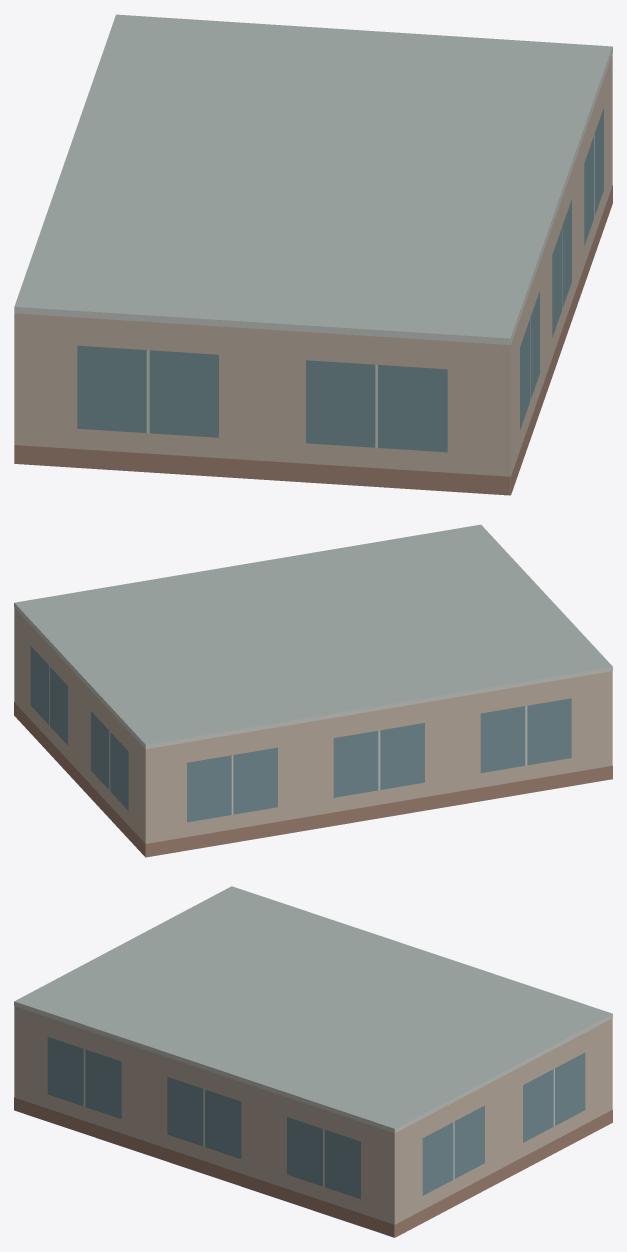
The model's file is survey-upis-32821896.glb.
3 renders of one model, top to bottom at view 1: azimuth 30°, elevation 25°; view 2: azimuth 150°, elevation 25°; view 3: azimuth 270°, elevation 25°, orthographic. The views are drawn at different scales.
Parts seen in each view (by area): view 1: survey-upis-32821896.tmp; view 2: survey-upis-32821896.tmp; view 3: survey-upis-32821896.tmp.
Boxes of the visible parts, <box> form: survey-upis-32821896.tmp: <box>14,14,612,495</box>; survey-upis-32821896.tmp: <box>14,524,612,857</box>; survey-upis-32821896.tmp: <box>14,886,612,1237</box>.
Size of the model in its own units: 14.58 by 3.05 by 15.2.
